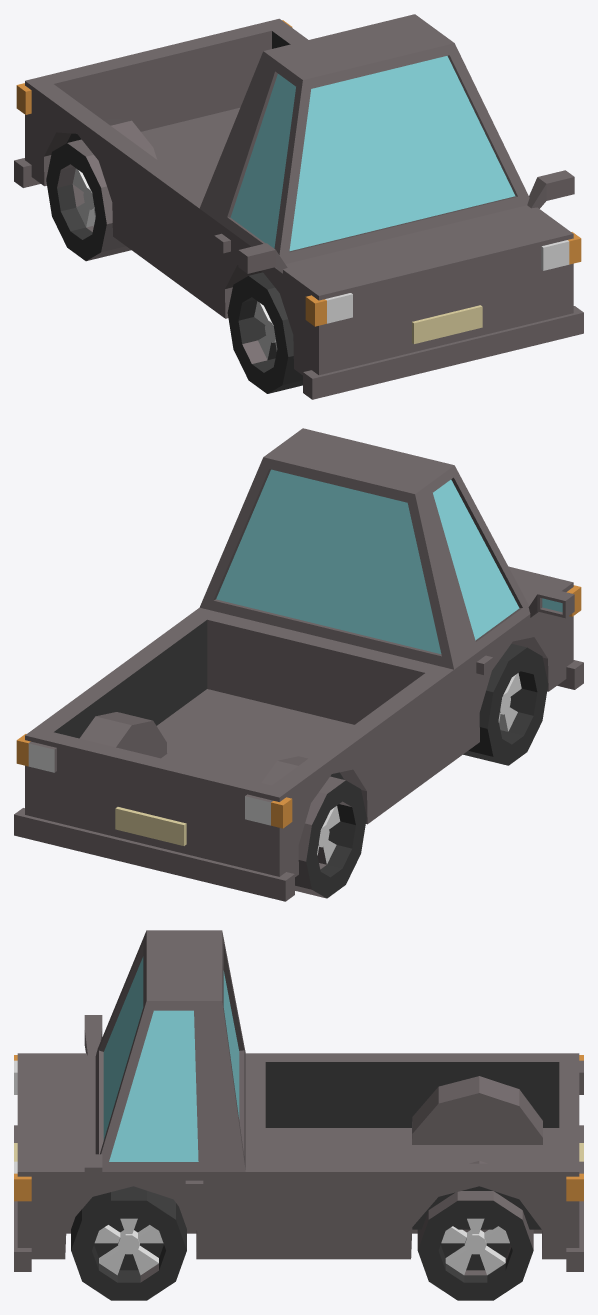
File: Pickup-truck.glb
3 views of the same model, one above another, from view 1: azimuth 30°, elevation 25°; view 2: azimuth 150°, elevation 25°; view 3: azimuth 270°, elevation 25° (orthographic). The views are drawn at different scales.
Parts seen in each view (by area): view 1: Cube.006; view 2: Cube.006; view 3: Cube.006.
Part boxes in pixels (x1,y1,x2,y2): Cube.006: (14, 14, 583, 399); Cube.006: (14, 428, 583, 901); Cube.006: (14, 930, 583, 1300).
Bounding box in the file's own units: 2.57 × 2.16 × 4.06.
